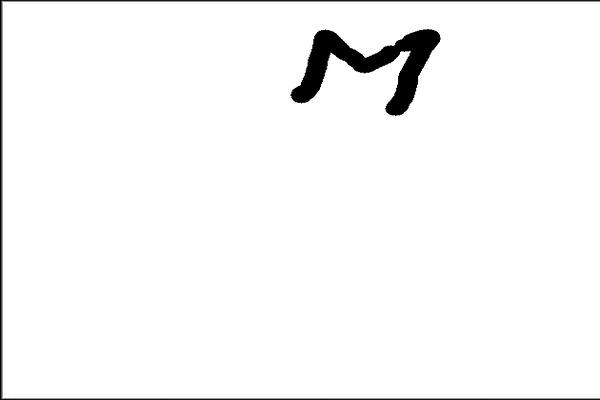M: (292, 27, 441, 121)
